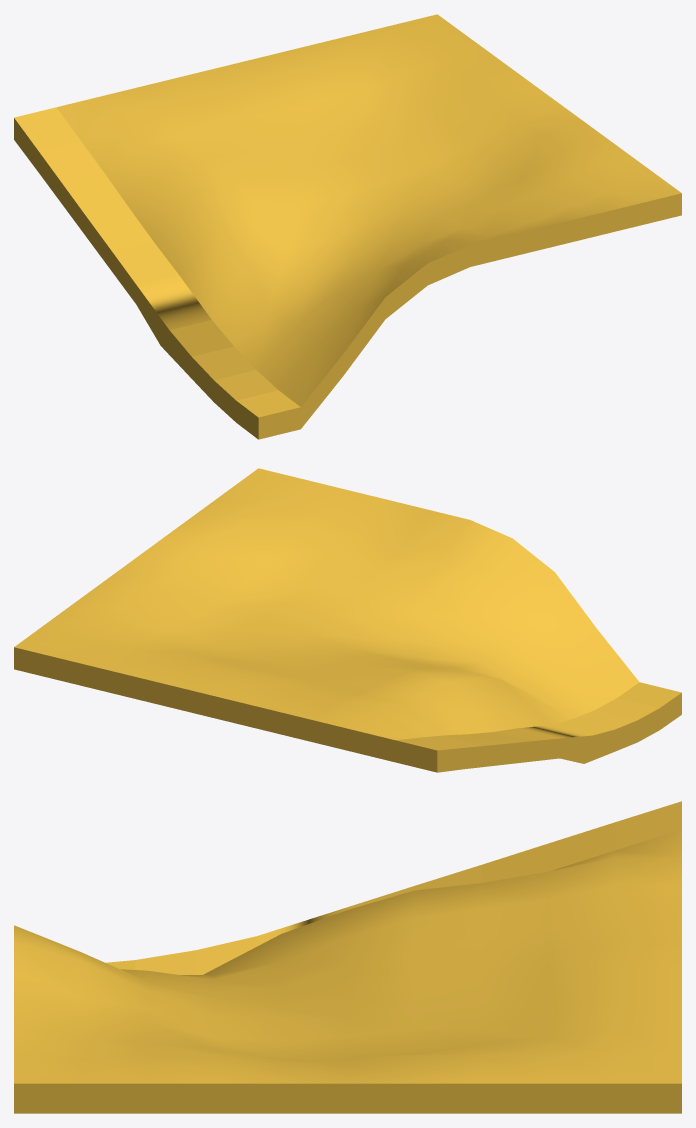
The model's file is Flach - Unten - Ecke Invertiert x - b.fbx.
The picture shows the model from 3 angles, top to bottom: view 1: azimuth 30°, elevation 25°; view 2: azimuth 150°, elevation 25°; view 3: azimuth 270°, elevation 25°; orthographic projection. The views are drawn at different scales.
Visible parts, largest first — view 1: Flach - Unten - Ecke Invertiert x - b; view 2: Flach - Unten - Ecke Invertiert x - b; view 3: Flach - Unten - Ecke Invertiert x - b.
Part boxes in pixels (bbox=[...]): Flach - Unten - Ecke Invertiert x - b: bbox=[14, 14, 681, 439]; Flach - Unten - Ecke Invertiert x - b: bbox=[14, 468, 681, 772]; Flach - Unten - Ecke Invertiert x - b: bbox=[14, 801, 681, 1113].
Bounding box in the file's own units: 394 × 127 × 394.
